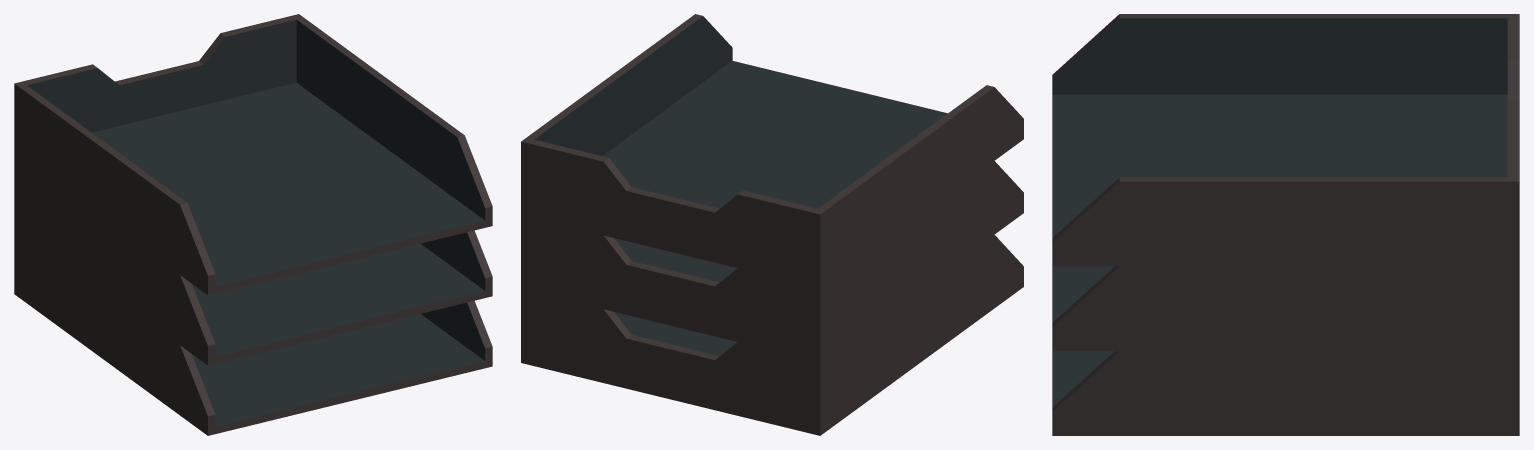
The model's file is Document_Tray_Black.fbx.
The picture shows the model from 3 angles, left to right: view 1: azimuth 30°, elevation 25°; view 2: azimuth 150°, elevation 25°; view 3: azimuth 270°, elevation 25°; orthographic projection. The views are drawn at different scales.
Visible parts, largest first — view 1: File_Paper_TrayPack.002; view 2: File_Paper_TrayPack.002; view 3: File_Paper_TrayPack.002.
Part boxes in pixels (x1=…): File_Paper_TrayPack.002: x1=14, y1=14, x2=492, y2=435; File_Paper_TrayPack.002: x1=521, y1=14, x2=1023, y2=435; File_Paper_TrayPack.002: x1=1052, y1=14, x2=1519, y2=435.
Size of the model in its own units: 28 by 19.8 by 33.
